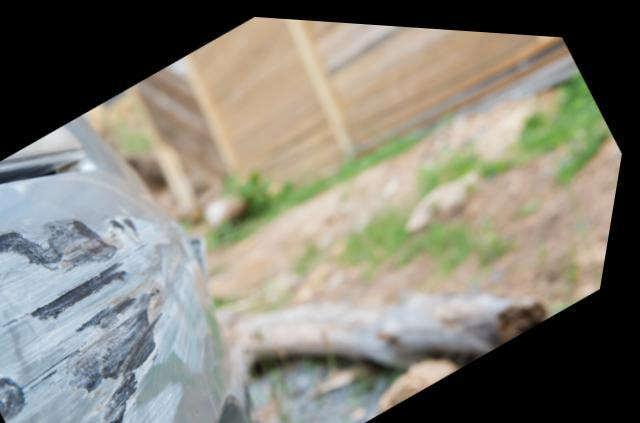scratch: (0, 211, 228, 423)
